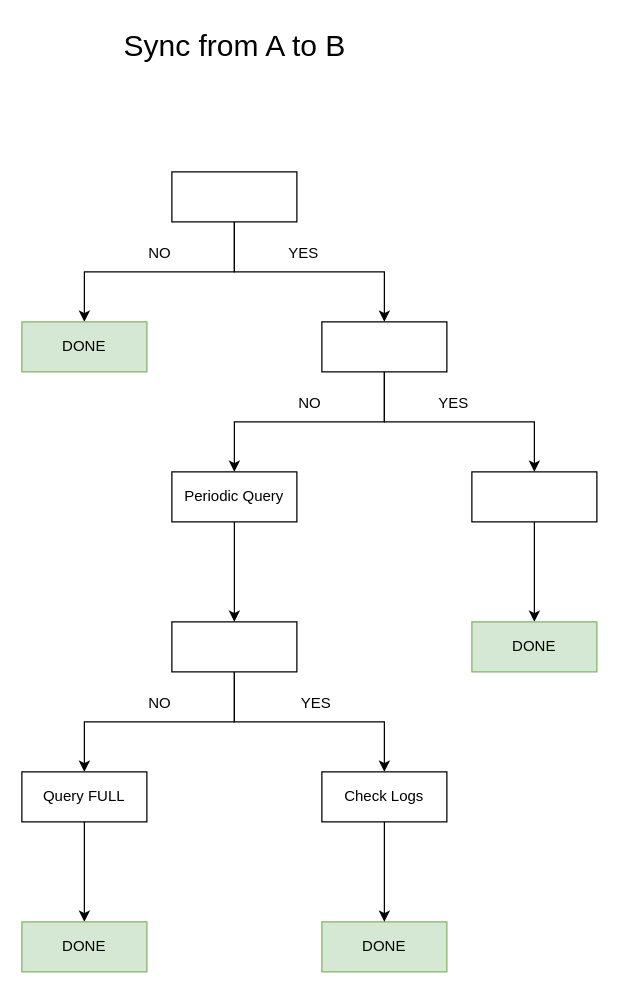
The diagram is 619 pixels wide and 994 high, and some of its shapes have lost their labels. The centre of each missing label's shape, as x and y in pixels:
Changelogs?: pixel 234 646
EVENT: REMOVE B: pixel 534 496
System A REMOVE?: pixel 234 196
Webhooks?: pixel 384 346
